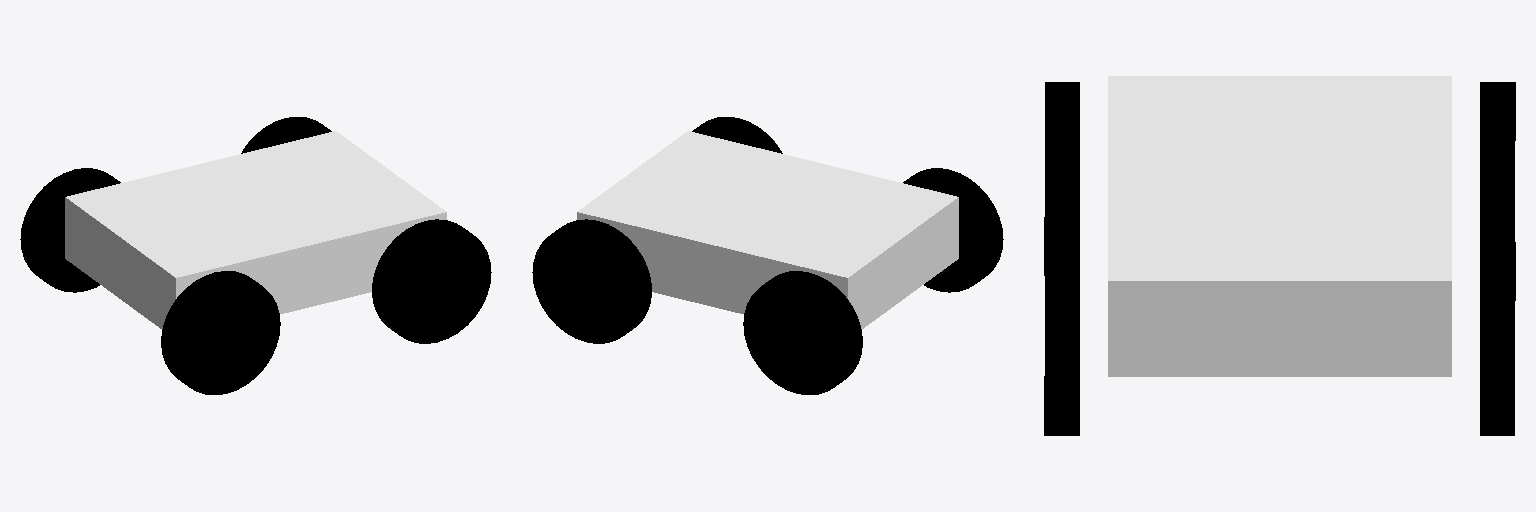
The robot description file, URDF, robot "wheeltec_robot":
<?xml version="1.0" ?>
<robot name="wheeltec_robot">

    <link name="base_link">
        <visual>
            <origin xyz=" 0 0 0.15" rpy="0 0 0" />
            <geometry>
                <box size="0.55 0.39 0.120"/>
            </geometry>
            <material name="white">
                <color rgba="1 1 1 1"/>
            </material>
        </visual>
    </link>   

    <joint name="left_wheel_joint" type="continuous">
        <origin xyz="-0.214 0.247 0.11" rpy="1.57 0 0"/>
        <parent link="base_link"/>
        <child link="left_wheel_link"/>
        <axis xyz="0 1 0"/>
    </joint>

    <link name="left_wheel_link">
        <visual>
            <origin xyz="0 0 0" rpy="0 0 0" />
            <geometry>
                <cylinder radius="0.11" length = "0.04"/>
            </geometry>
            <material name="black">
                <color rgba="0 0 0 1"/>
            </material>
        </visual>
    </link>

    <joint name="right_wheel_joint" type="continuous">
        <origin xyz="-0.214 -0.247 0.11" rpy="1.57 0 0"/>
        <parent link="base_link"/>
        <child link="right_wheel_link"/>
        <axis xyz="0 1 0"/>
    </joint>

    <link name="right_wheel_link">
        <visual>
            <origin xyz="0 0 0" rpy="0 0 0" />
            <geometry>
                <cylinder radius="0.11" length = "0.04"/>
            </geometry>
            <material name="black">
                <color rgba="0 0 0 1"/>
            </material>
        </visual>
    </link>

      <joint name="left_front_joint" type="continuous">
        <origin xyz="0.214 0.247 0.11" rpy="1.57 0 0"/>
        <parent link="base_link"/>
        <child link="left_front_link"/>
        <axis xyz="0 1 0"/>
    </joint>

    <link name="left_front_link">
        <visual>
            <origin xyz="0 0 0" rpy="0 0 0" />
            <geometry>
                <cylinder radius="0.11" length = "0.04"/>
            </geometry>
            <material name="black">
                <color rgba="0 0 0 1"/>
            </material>
        </visual>
    </link>

    <joint name="right_front_joint" type="continuous">
        <origin xyz="0.214 -0.247 0.11" rpy="1.57 0 0"/>
        <parent link="base_link"/>
        <child link="right_front_link"/>
        <axis xyz="0 1 0"/>
    </joint>

    <link name="right_front_link">
        <visual>
            <origin xyz="0 0 0" rpy="0 0 0" />
            <geometry>
                <cylinder radius="0.11" length = "0.04"/>
            </geometry>
            <material name="black">
                <color rgba="0 0 0 1"/>
            </material>
        </visual>
    </link>


</robot>

--- Render facts (derived) ---
The picture shows the robot from 3 angles, left to right: view 1: azimuth 30°, elevation 25°; view 2: azimuth 150°, elevation 25°; view 3: azimuth 270°, elevation 25°; orthographic projection.
Model wheeltec_robot with 5 links and 4 joints (4 continuous), rooted at base_link, posed all joints at 0.
Visible links, largest first — view 1: base_link, right_front_link, right_wheel_link, left_wheel_link, left_front_link; view 2: base_link, left_front_link, left_wheel_link, right_wheel_link, right_front_link; view 3: base_link, right_front_link, left_front_link, left_wheel_link, right_wheel_link.
Link boxes in pixels (x1=…): base_link: x1=65, y1=131, x2=446, y2=328; right_front_link: x1=372, y1=219, x2=491, y2=343; right_wheel_link: x1=161, y1=271, x2=280, y2=394; left_wheel_link: x1=20, y1=168, x2=120, y2=292; left_front_link: x1=241, y1=117, x2=331, y2=153; base_link: x1=577, y1=131, x2=958, y2=328; left_front_link: x1=532, y1=219, x2=651, y2=343; left_wheel_link: x1=743, y1=271, x2=862, y2=394; right_wheel_link: x1=903, y1=168, x2=1003, y2=292; right_front_link: x1=692, y1=117, x2=782, y2=153; base_link: x1=1108, y1=76, x2=1451, y2=376; right_front_link: x1=1044, y1=242, x2=1079, y2=435; left_front_link: x1=1480, y1=242, x2=1515, y2=435; left_wheel_link: x1=1480, y1=82, x2=1515, y2=241; right_wheel_link: x1=1044, y1=82, x2=1079, y2=275.
Size in the robot's own frame: 0.648 by 0.5342 by 0.22 metres.
Geometry: primitives only (box / cylinder / sphere), no mesh files.